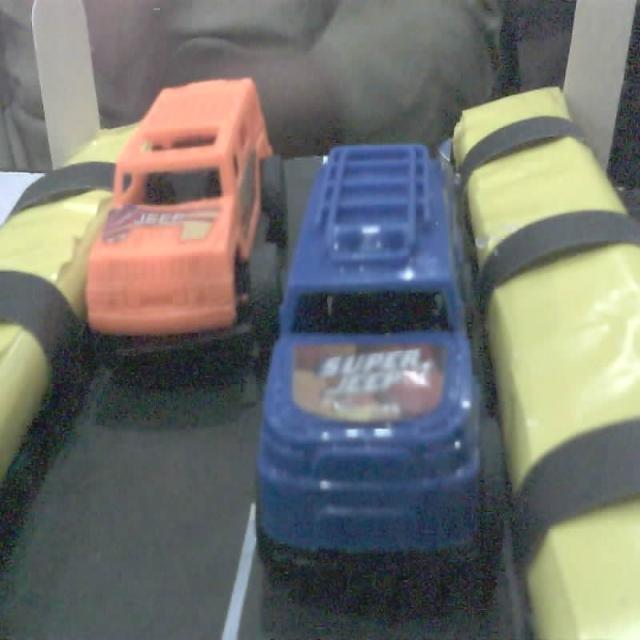TwoCar: (248, 118, 520, 601), (74, 70, 309, 399)
